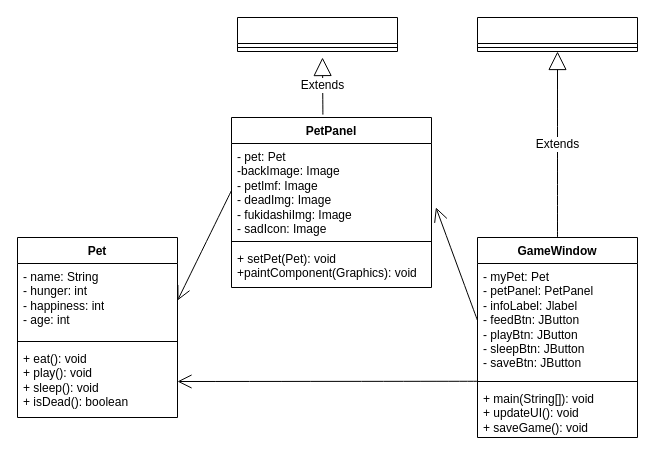
This 655x458 diagram has some shape labels left out. The shapes that lost their labels are listed below. From the top down, each one's centre as x and y in pixels, then its label:
[317,34]: JPanel
[557,34]: JFrame
